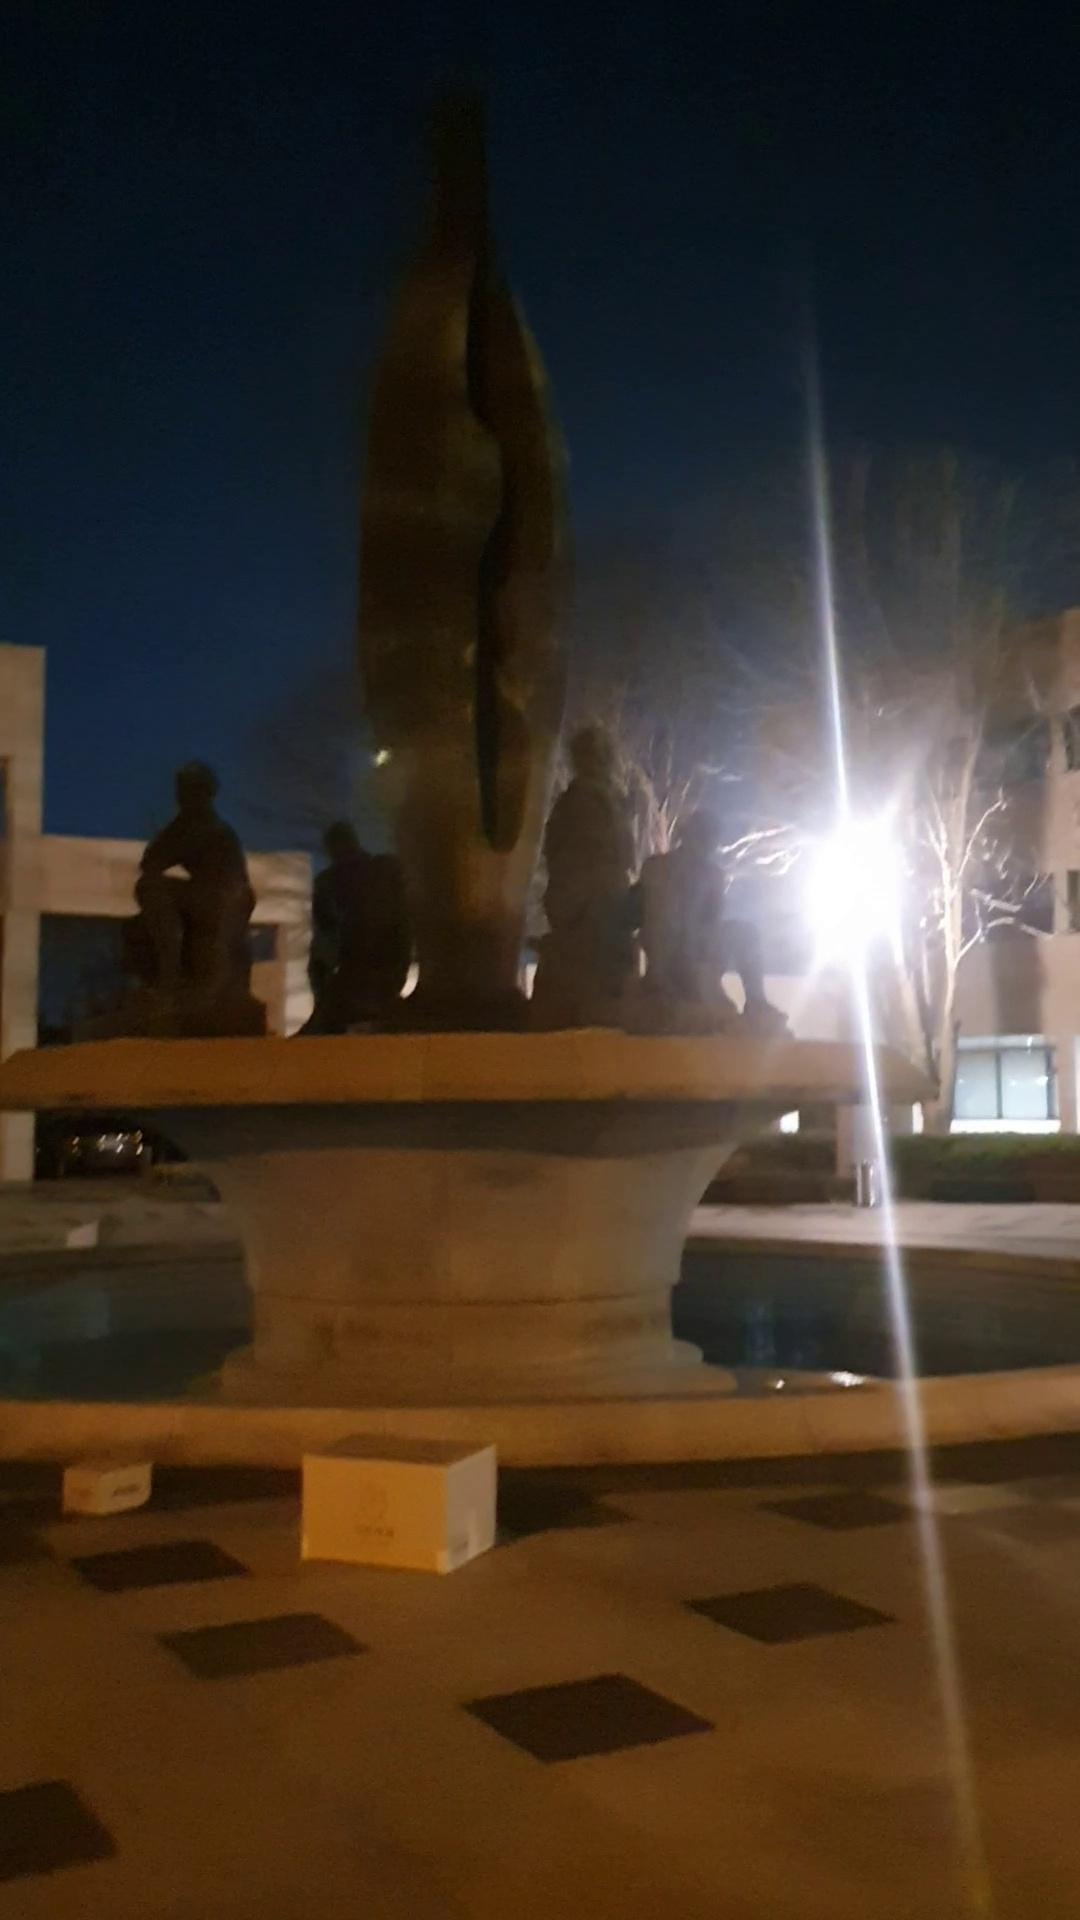Box: (287, 1425, 525, 1585), (36, 1448, 160, 1515)
